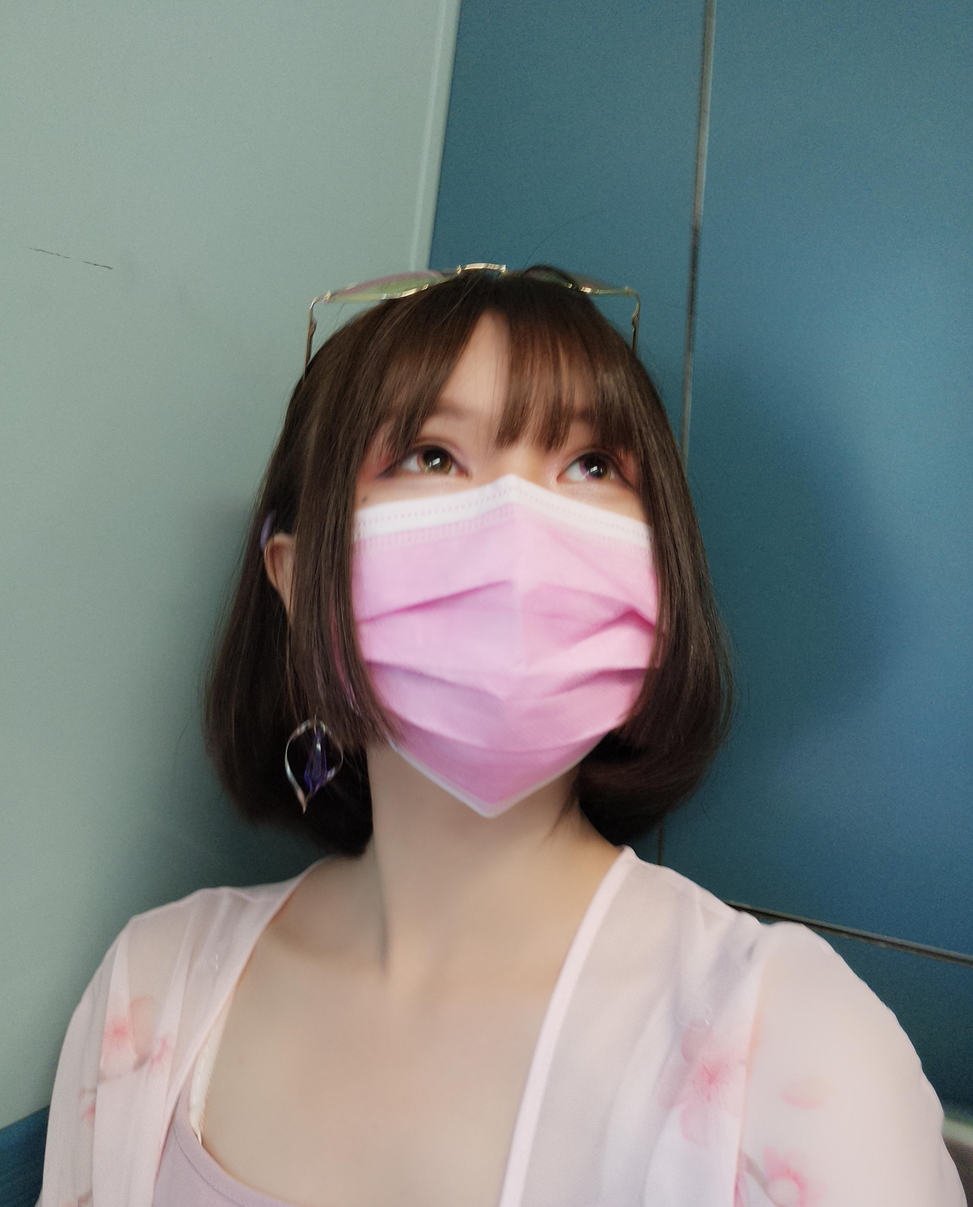OK: (303, 405, 672, 774)
